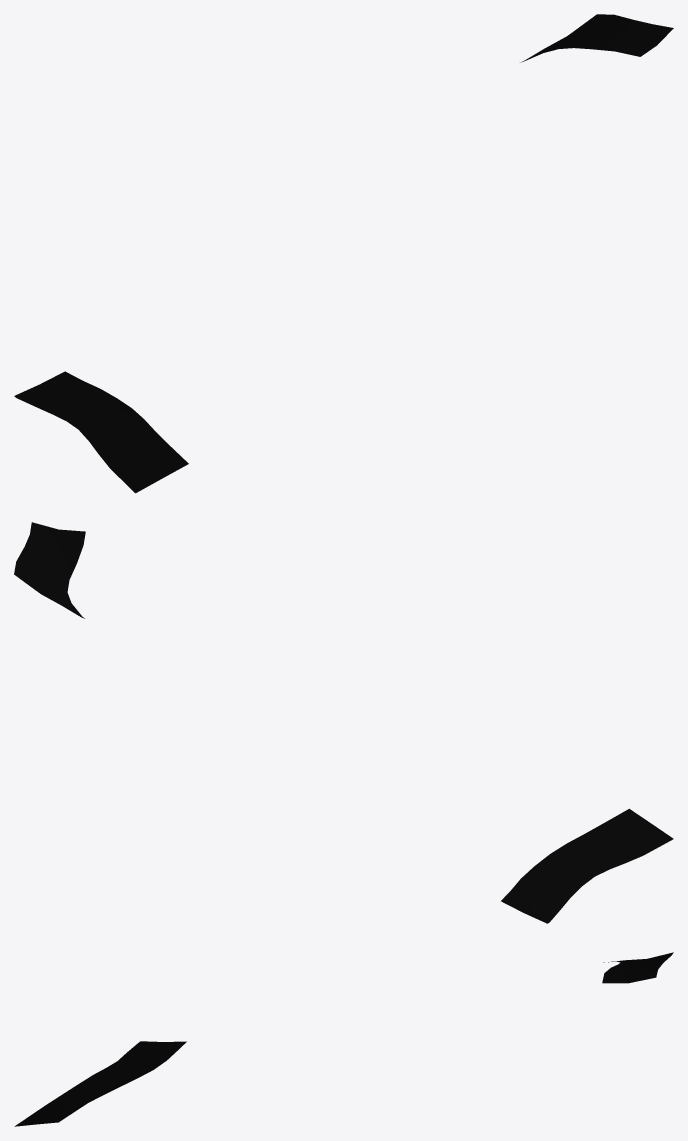
The model's file is Tide_GenerateSurfaceDecal_F9ED13CF_1_FlowDecal_SmallMesh_Mesh_x10_y6_166_1_ATLAS.fbx.
The picture shows the model from 3 angles, top to bottom: view 1: azimuth 30°, elevation 25°; view 2: azimuth 150°, elevation 25°; view 3: azimuth 330°, elevation 25°; orthographic projection. The views are drawn at different scales.
Parts seen in each view (by area): view 1: Tide_GenerateSurfaceDecal_F9ED13CF_1_FlowDecal_SmallMesh_Mes; view 2: Tide_GenerateSurfaceDecal_F9ED13CF_1_FlowDecal_SmallMesh_Mes; view 3: Tide_GenerateSurfaceDecal_F9ED13CF_1_FlowDecal_SmallMesh_Mes.
Boxes of the visible parts, bbox=[...] form: Tide_GenerateSurfaceDecal_F9ED13CF_1_FlowDecal_SmallMesh_Mes: bbox=[14, 14, 673, 493]; Tide_GenerateSurfaceDecal_F9ED13CF_1_FlowDecal_SmallMesh_Mes: bbox=[14, 522, 673, 923]; Tide_GenerateSurfaceDecal_F9ED13CF_1_FlowDecal_SmallMesh_Mes: bbox=[14, 952, 673, 1126].
Size of the model in its own units: 2414 by 892 by 947.
